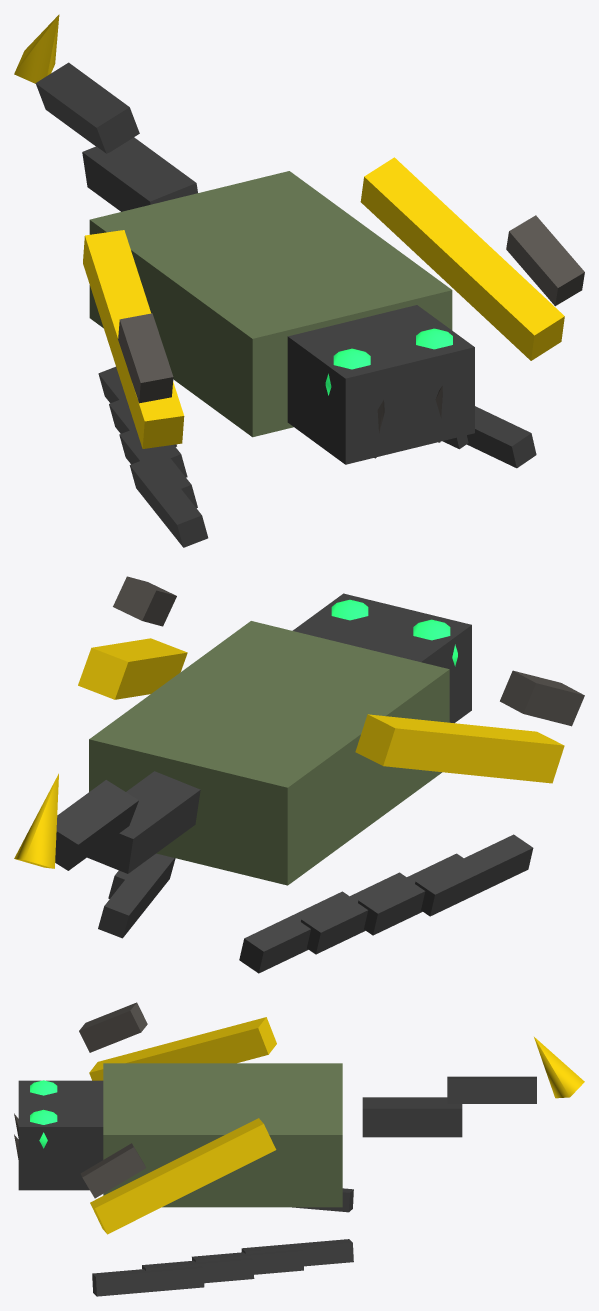
Rendered from DesertScorpionLargeB.glb.
The picture shows the model from 3 angles, top to bottom: view 1: azimuth 30°, elevation 25°; view 2: azimuth 150°, elevation 25°; view 3: azimuth 270°, elevation 25°; orthographic projection. The views are drawn at different scales.
Visible parts, largest first — view 1: SandScorpionBody; view 2: SandScorpionBody; view 3: SandScorpionBody.
Part boxes in pixels (box(x1,y1,x2,y2)): SandScorpionBody: box(14, 14, 584, 547); SandScorpionBody: box(14, 576, 584, 973); SandScorpionBody: box(14, 1002, 584, 1296).
Bounding box in the file's own units: 1.31 × 0.7637 × 1.97.
